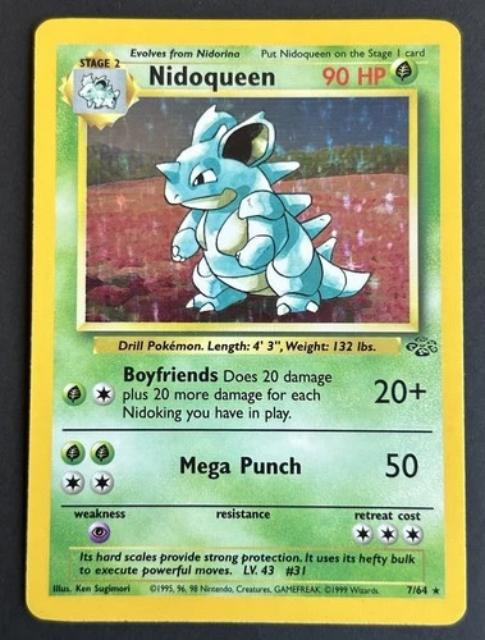Card: (20, 13, 471, 625)
Name: (140, 61, 279, 91)
